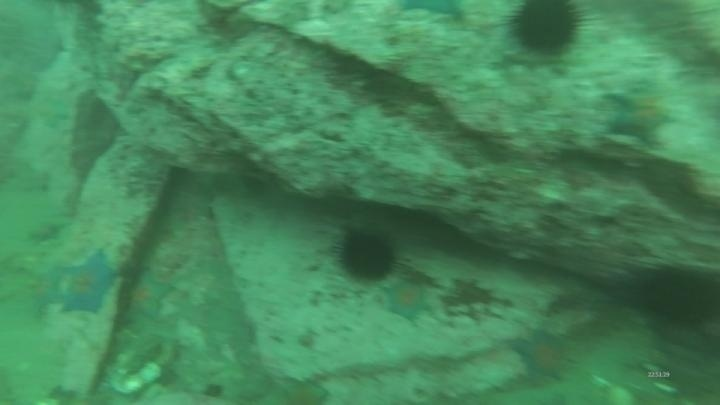echinus: (635, 262, 719, 332), (503, 1, 588, 62), (331, 223, 402, 286)
starfish: (601, 82, 681, 150), (53, 247, 122, 320), (508, 326, 576, 385), (123, 268, 176, 325), (19, 260, 69, 319), (379, 276, 433, 326), (396, 0, 468, 24), (275, 375, 331, 404), (24, 216, 70, 247)
